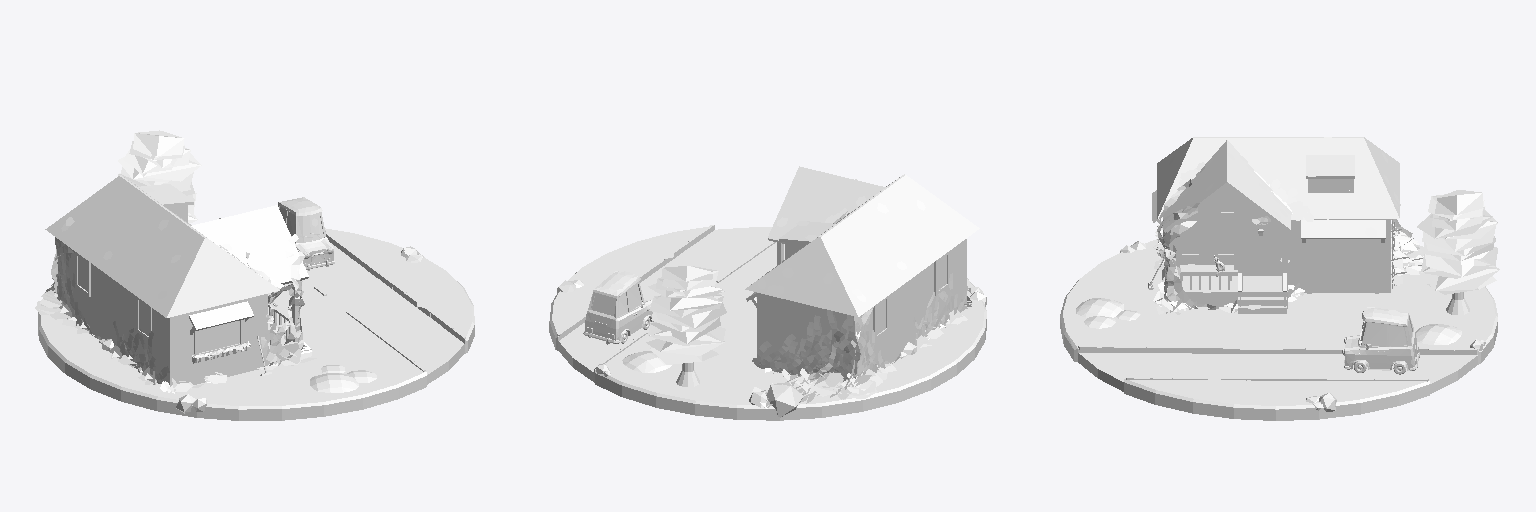
File: house.obj
3 views of the same model, side by side, from view 1: azimuth 30°, elevation 25°; view 2: azimuth 150°, elevation 25°; view 3: azimuth 270°, elevation 25° (orthographic).
Visible parts, largest first — view 1: polySurface637_Mesh.232, House_base_Mesh.064, polySurface197_Mesh.103, polySurface355_Mesh.023, initialShadingGrouppolySurface116_polySurface3_Mesh.152, House_window_01_Mesh.062, polySurface226_Mesh.060, polySurface243_Mesh.215, House_smallroof_02_Mesh.026, House_windows_06_Mesh.117, House_windows_05_Mesh.228; view 2: polySurface637_Mesh.232, House_base_Mesh.064, polySurface355_Mesh.023, polySurface197_Mesh.103, initialShadingGrouppolySurface116_polySurface3_Mesh.152, polySurface276_Mesh.225, polySurface250_Mesh.212, polySurface494_Mesh.236, House_smallroof_02_Mesh.026, polySurface493_Mesh.237, polySurface476_Mesh.262, polySurface470_Mesh.259 (+4 smaller); view 3: polySurface637_Mesh.232, House_base_Mesh.064, polySurface355_Mesh.023, Garage_door_Mesh.063, initialShadingGrouppolySurface116_polySurface3_Mesh.152, polySurface197_Mesh.103, House_veranda_Mesh.231, polySurface179_Mesh.061, House_roof_part_02_Mesh.116, House_door_Mesh.027, House_smallroof_02_Mesh.026, polySurface250_Mesh.212 (+7 smaller).
Part boxes in pixels (bbox=[...]): polySurface637_Mesh.232: bbox=[38, 228, 474, 420]; House_base_Mesh.064: bbox=[45, 175, 279, 386]; polySurface197_Mesh.103: bbox=[191, 205, 308, 284]; polySurface355_Mesh.023: bbox=[118, 130, 201, 223]; initialShadingGrouppolySurface116_polySurface3_Mesh.152: bbox=[278, 197, 334, 270]; House_window_01_Mesh.062: bbox=[194, 320, 243, 354]; polySurface226_Mesh.060: bbox=[189, 301, 253, 334]; polySurface243_Mesh.215: bbox=[310, 373, 358, 392]; House_smallroof_02_Mesh.026: bbox=[138, 184, 193, 206]; House_windows_06_Mesh.117: bbox=[75, 252, 90, 296]; House_windows_05_Mesh.228: bbox=[136, 296, 151, 339]; polySurface637_Mesh.232: bbox=[549, 227, 986, 420]; House_base_Mesh.064: bbox=[745, 174, 979, 376]; polySurface355_Mesh.023: bbox=[646, 266, 726, 386]; polySurface197_Mesh.103: bbox=[768, 166, 885, 243]; initialShadingGrouppolySurface116_polySurface3_Mesh.152: bbox=[583, 271, 653, 344]; polySurface276_Mesh.225: bbox=[766, 382, 803, 417]; polySurface250_Mesh.212: bbox=[622, 351, 671, 372]; polySurface494_Mesh.236: bbox=[752, 334, 798, 370]; House_smallroof_02_Mesh.026: bbox=[779, 221, 834, 243]; polySurface493_Mesh.237: bbox=[757, 322, 830, 374]; polySurface476_Mesh.262: bbox=[779, 315, 839, 374]; polySurface470_Mesh.259: bbox=[841, 373, 877, 398]; polySurface637_Mesh.232: bbox=[1060, 239, 1497, 420]; House_base_Mesh.064: bbox=[1157, 137, 1399, 292]; polySurface355_Mesh.023: bbox=[1417, 190, 1499, 314]; Garage_door_Mesh.063: bbox=[1307, 239, 1378, 293]; initialShadingGrouppolySurface116_polySurface3_Mesh.152: bbox=[1342, 307, 1419, 374]; polySurface197_Mesh.103: bbox=[1163, 140, 1290, 232]; House_veranda_Mesh.231: bbox=[1167, 276, 1287, 308]; polySurface179_Mesh.061: bbox=[1301, 220, 1385, 242]; House_roof_part_02_Mesh.116: bbox=[1183, 185, 1273, 221]; House_door_Mesh.027: bbox=[1249, 229, 1274, 275]; House_smallroof_02_Mesh.026: bbox=[1306, 155, 1354, 178]; polySurface250_Mesh.212: bbox=[1415, 324, 1461, 344].
Bounding box in the file's own units: 25.13 × 9.35 × 25.22.